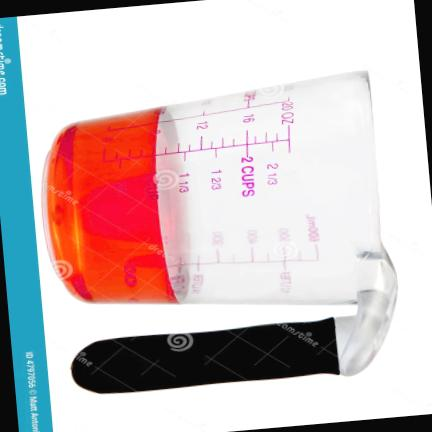container: (42, 72, 367, 309)
fluid: (46, 110, 183, 308), (44, 109, 179, 304)
fluid-surface: (155, 109, 189, 302)
